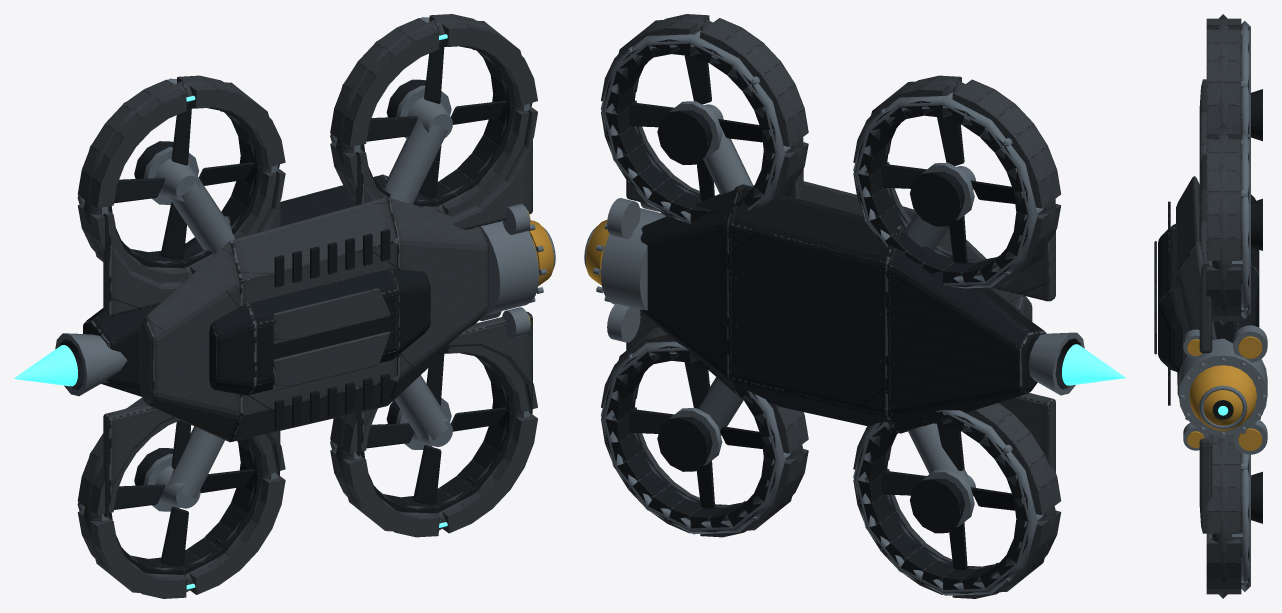
Rendered from drone-high.glb.
3 views of the same model, side by side, from view 1: azimuth 30°, elevation 25°; view 2: azimuth 150°, elevation 25°; view 3: azimuth 270°, elevation 25° (orthographic). The views are drawn at different scales.
Parts seen in each view (by area): view 1: drone-root / Brushed pale alloy, drone-root / Ceramic graphite, drone-root / Titanium edges, Survey rotor.001 / Ceramic graphite, Survey rotor.002 / Ceramic graphite, Survey rotor / Ceramic graphite, Survey rotor.003 / Ceramic graphite, Rear jet plume / Cyan instrumentation, Survey rotor.001 / Titanium edges, Survey rotor.003 / Titanium edges, drone-root / Ore gold / optics, Survey rotor / Titanium edges; view 2: drone-root / Ceramic graphite, drone-root / Brushed pale alloy, drone-root / Titanium edges, Survey rotor.001 / Ceramic graphite, Survey rotor / Ceramic graphite, Survey rotor.003 / Ceramic graphite, Survey rotor.002 / Ceramic graphite, Rear jet plume / Cyan instrumentation, drone-root / Ore gold / optics; view 3: drone-root / Brushed pale alloy, drone-root / Titanium edges, drone-root / Ceramic graphite, drone-root / Ore gold / optics.
Boxes of the visible parts, bbox=[...] form: drone-root / Brushed pale alloy: bbox=[77, 14, 537, 598]; drone-root / Ceramic graphite: bbox=[59, 42, 515, 574]; drone-root / Titanium edges: bbox=[55, 17, 555, 521]; Survey rotor.001 / Ceramic graphite: bbox=[114, 108, 254, 259]; Survey rotor.002 / Ceramic graphite: bbox=[366, 354, 506, 504]; Survey rotor / Ceramic graphite: bbox=[114, 420, 253, 566]; Survey rotor.003 / Ceramic graphite: bbox=[366, 47, 506, 198]; Rear jet plume / Cyan instrumentation: bbox=[14, 345, 77, 386]; Survey rotor.001 / Titanium edges: bbox=[155, 159, 200, 201]; Survey rotor.003 / Titanium edges: bbox=[407, 97, 452, 137]; drone-root / Ore gold / optics: bbox=[527, 210, 553, 325]; Survey rotor / Titanium edges: bbox=[155, 465, 200, 508]; drone-root / Ceramic graphite: bbox=[605, 39, 1080, 593]; drone-root / Brushed pale alloy: bbox=[601, 14, 1061, 598]; drone-root / Titanium edges: bbox=[584, 31, 1084, 595]; Survey rotor.001 / Ceramic graphite: bbox=[881, 117, 1015, 263]; Survey rotor / Ceramic graphite: bbox=[881, 424, 1015, 570]; Survey rotor.003 / Ceramic graphite: bbox=[629, 55, 762, 200]; Survey rotor.002 / Ceramic graphite: bbox=[629, 362, 762, 508]; Rear jet plume / Cyan instrumentation: bbox=[1062, 344, 1125, 385]; drone-root / Ore gold / optics: bbox=[586, 220, 609, 285]; drone-root / Brushed pale alloy: bbox=[1154, 14, 1241, 598]; drone-root / Titanium edges: bbox=[1178, 21, 1267, 591]; drone-root / Ceramic graphite: bbox=[1158, 27, 1262, 583]; drone-root / Ore gold / optics: bbox=[1187, 336, 1262, 450].
Bounding box in the file's own units: 1.66 × 1.52 × 0.3412.
Materials: 5 (2 with a texture image).
